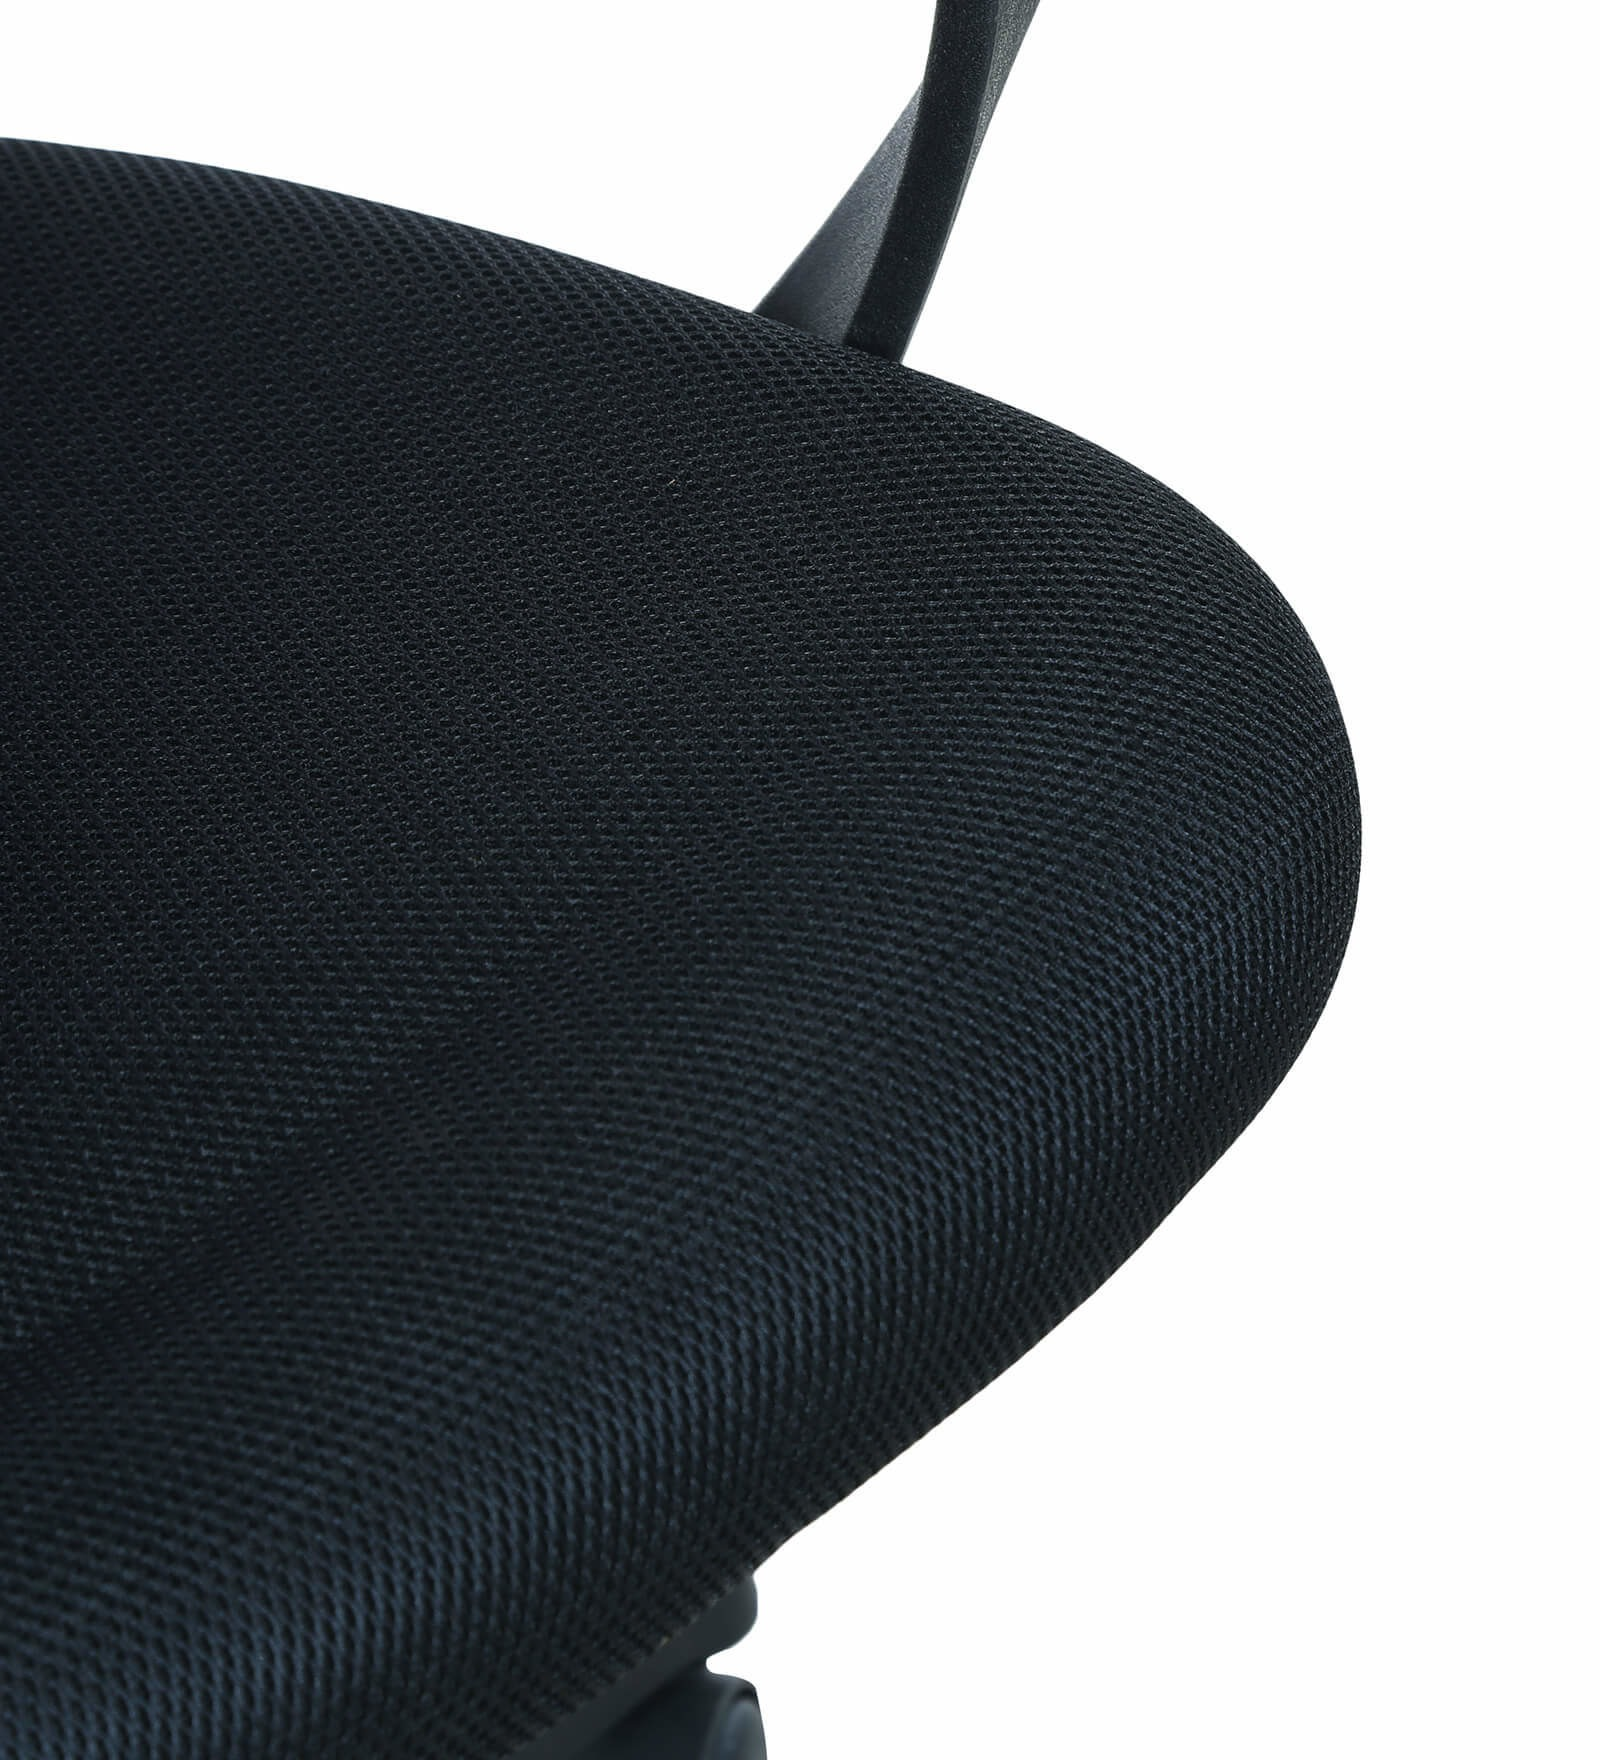Trendy Ergonomic Chair in Purple Colour by Parin: (60, 117, 1424, 1610)
